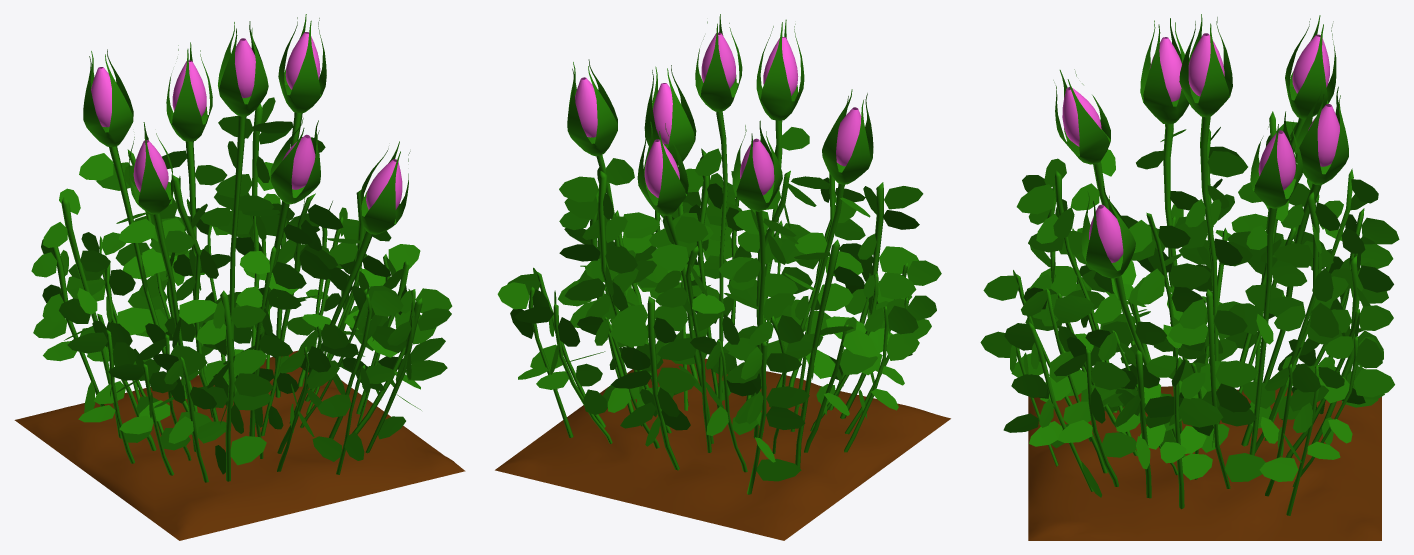
File: pink-rose-p4-leaf.glb
3 renders of one model, left to right at view 1: azimuth 30°, elevation 25°; view 2: azimuth 150°, elevation 25°; view 3: azimuth 270°, elevation 25°, orthographic. The views are drawn at different scales.
Parts seen in each view (by area): view 1: 4_nft_out_of_bloom; view 2: 4_nft_out_of_bloom; view 3: 4_nft_out_of_bloom.
Boxes of the visible parts, box(x1,y1,x2,y2) form: 4_nft_out_of_bloom: box(14, 14, 465, 540); 4_nft_out_of_bloom: box(495, 14, 950, 540); 4_nft_out_of_bloom: box(980, 14, 1399, 540).
Size of the model in its own units: 0.862 by 0.9812 by 0.8292.
